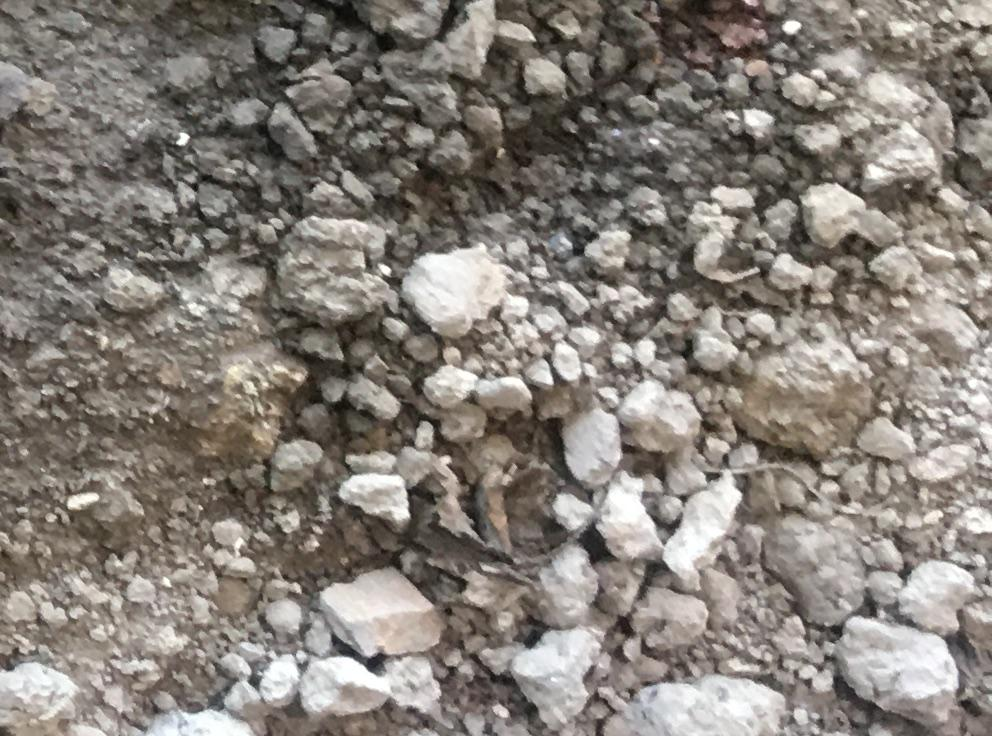block: (835, 612, 961, 736), (309, 565, 450, 658), (275, 214, 375, 327), (604, 676, 788, 736), (402, 239, 494, 335)
